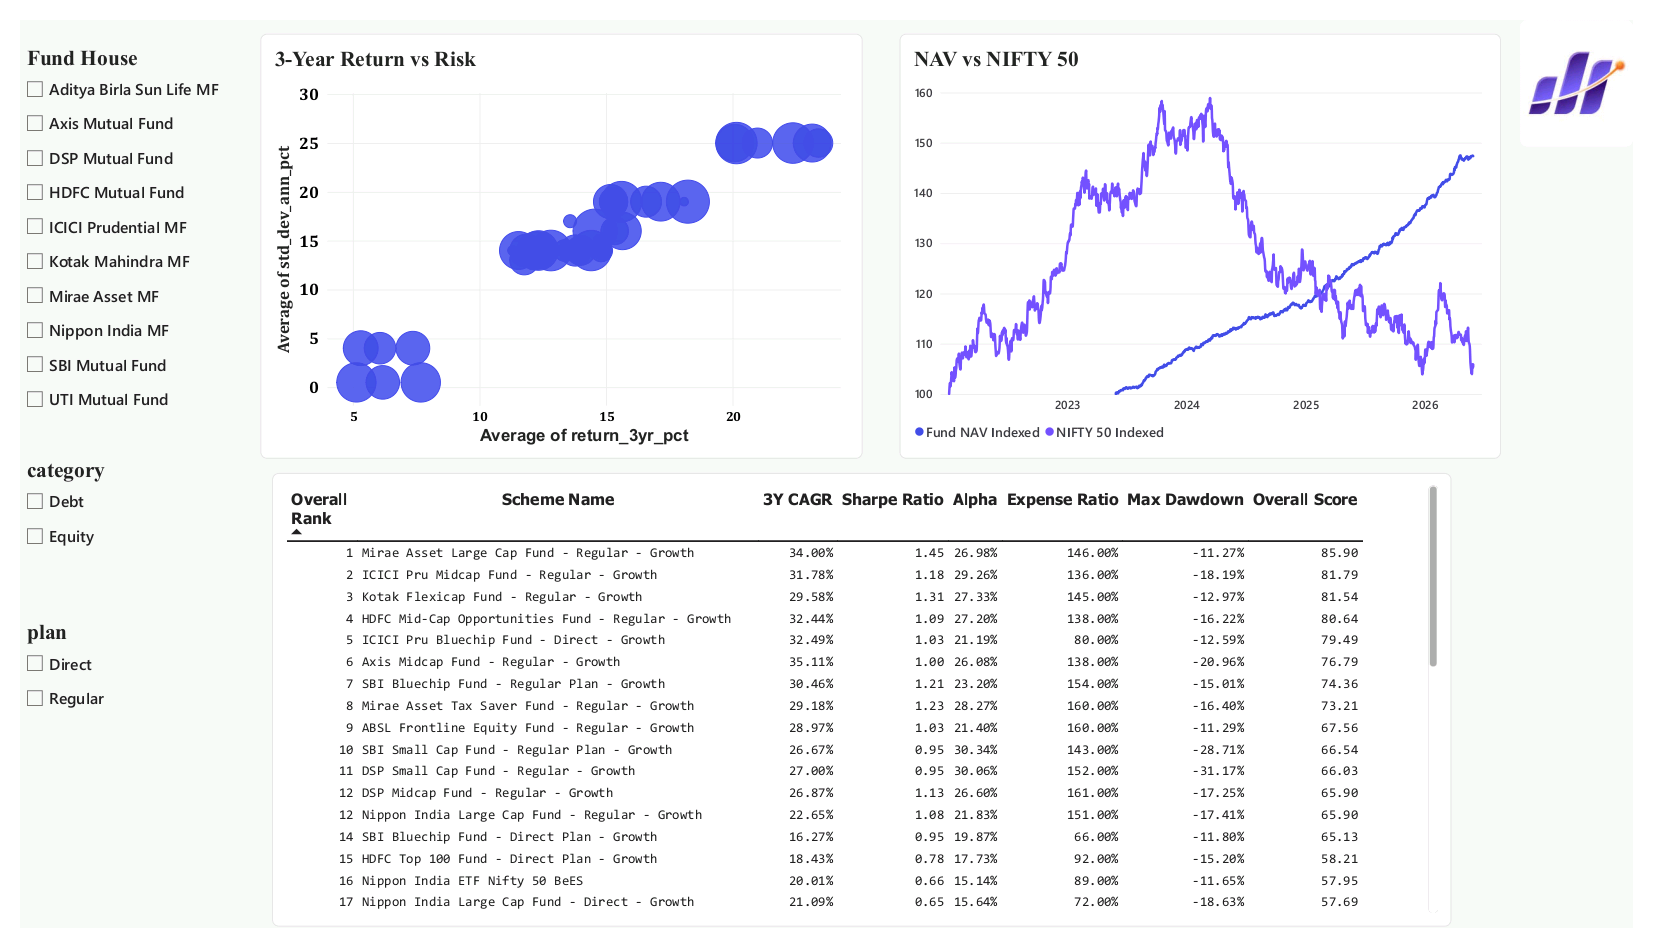

This screenshot's page, from the dashboard's own definition file:
{"tool":"powerbi","page":{"name":"Fund Performance","canvas":[1920,1080],"ordinal":1},"visuals":[{"type":"scatterChart","title":"3-Year Return vs Risk","fields":{"Category":["fact_performance.scheme_name"],"Size":["Avg(fact_performance.aum_crore)"],"X":["Avg(fact_performance.return_3yr_pct)"],"Y":["Avg(fact_performance.std_dev_ann_pct)"]},"box":[286,15.7,716.9,505.8],"z":0},{"type":"tableEx","fields":{"Values":["Min(fund_scorecard.overall_rank)","fund_scorecard.scheme_name","Sum(fund_scorecard.cagr_3yr)","Sum(fund_scorecard.sharpe_ratio)","Sum(fund_scorecard.alpha)","Sum(fund_scorecard.expense_ratio_pct)","Sum(fund_scorecard.max_drawdown)","Sum(fund_scorecard.overall_score)"]},"box":[300,539,1404.1,540.5],"z":1000},{"type":"lineChart","title":"NAV vs NIFTY 50","fields":{"Category":["dim_date.date.Variation.Date Hierarchy.Year","dim_date.date.Variation.Date Hierarchy.Quarter","dim_date.date.Variation.Date Hierarchy.Month","dim_date.date.Variation.Date Hierarchy.Day"],"Y":["dim_date.Fund NAV Indexed","dim_date.NIFTY 50 Indexed"]},"box":[1046.5,15.7,716.9,505.8],"z":2000},{"type":"slicer","fields":{"Values":["dim_fund.fund_house"]},"box":[0,30.1,256.3,442.2],"z":3000},{"type":"slicer","fields":{"Values":["dim_fund.category"]},"box":[0,520.9,147.4,165.8],"z":4000},{"type":"slicer","fields":{"Values":["dim_fund.plan"]},"box":[0,713.5,147.4,144],"z":5000},{"type":"image","box":[1786,0,134,150],"z":6000}]}

Visuals, with their boxes in screenshot pixels (x1, y1, x2, y2), scaled from the page's 1920x1080 canvas onto the 1653x947 screenshot:
"3-Year Return vs Risk" scatterChart: left=246, top=14, right=863, bottom=457
tableEx - Min(fund_scorecard.overall_rank) x fund_scorecard.scheme_name: left=258, top=473, right=1467, bottom=946
"NAV vs NIFTY 50" lineChart: left=901, top=14, right=1518, bottom=457
slicer - dim_fund.fund_house: left=0, top=26, right=221, bottom=414
slicer - dim_fund.category: left=0, top=457, right=127, bottom=602
slicer - dim_fund.plan: left=0, top=626, right=127, bottom=752
image: left=1538, top=0, right=1652, bottom=132
